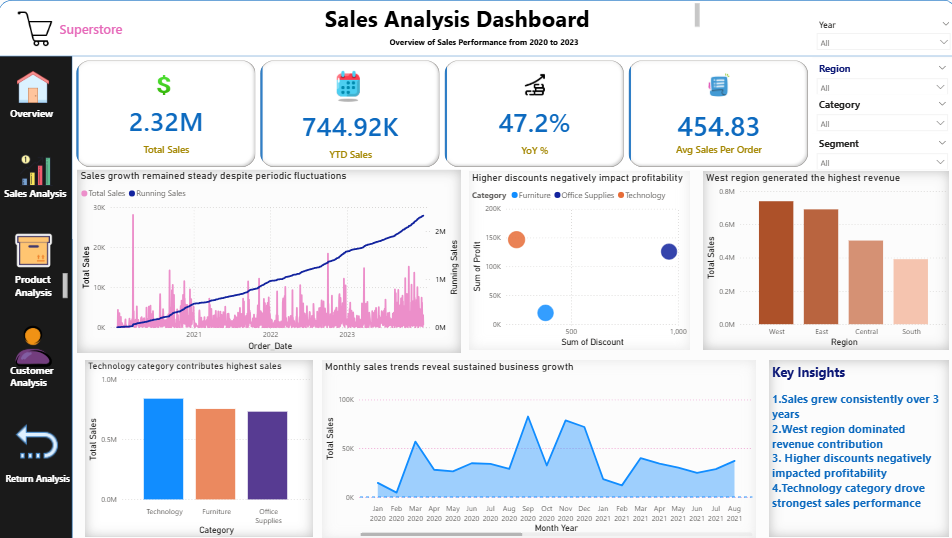

The page's visual inventory and layout, read from the dashboard file:
{"tool":"powerbi","page":{"name":"Sales Analysis","canvas":[1600,900],"ordinal":1},"visuals":[{"type":"shape","box":[0,0,124,900],"z":0},{"type":"shape","box":[0,0,1600,94],"z":1000},{"type":"lineChart","title":"Sales growth remained steady despite periodic fluctuations","fields":{"Y":["Orders.Total Sales"],"Category":["Orders.Order_Date"],"Y2":["Orders.Running Sales"]},"box":[132,282,640,306],"z":2000},{"type":"columnChart","title":"West region generated the highest revenue","fields":{"Category":["Orders.Region"],"Y":["Orders.Total Sales"]},"box":[1174,286,412,298],"z":3000},{"type":"clusteredColumnChart","title":"Technology category contributes highest sales","fields":{"Y":["Orders.Total Sales"],"Category":["Orders.Category"]},"box":[144,600,380,296],"z":4000},{"type":"scatterChart","title":"Higher discounts negatively impact profitability","fields":{"X":["Sum(Orders.Discount)"],"Y":["Sum(Orders.Profit)"],"Size":["Sum(Orders.Sales)"],"Series":["Orders.Category"]},"box":[786,286,368,298],"z":5000},{"type":"areaChart","title":"Monthly sales trends reveal sustained business growth","fields":{"Category":["Orders.Month Year"],"Y":["Orders.Total Sales"]},"box":[540,600,724,300],"z":6000},{"type":"slicer","fields":{"Values":["Orders.Region"]},"box":[1356,98,238,60],"z":7000},{"type":"slicer","fields":{"Values":["Orders.Category"]},"box":[1356,158,238,64],"z":8000},{"type":"slicer","fields":{"Values":["Orders.Segment"]},"box":[1356,222,238,60],"z":9000},{"type":"cardVisual","fields":{"Data":["Orders.Daily Sales","Orders.YTD Sales","Orders.YoY Growth %","Orders.Avg Sales Per Order"]},"box":[124,94,1232,188],"z":10000},{"type":"textbox","box":[540,0,634,54],"z":11000},{"type":"textbox","box":[648,54,412,78],"z":12000},{"type":"image","box":[28,8,70,78],"z":13000},{"type":"textbox","box":[98,28,220,110],"z":14000},{"type":"image","box":[26,98,66,94],"z":15000},{"type":"textbox","box":[16,172,232,322],"z":16000},{"type":"image","box":[22,228,82,116],"z":17000},{"type":"image","box":[20,368,78,100],"z":18000},{"type":"image","box":[8,518,96,120],"z":19000},{"type":"image","box":[22,690,84,92],"z":20000},{"type":"textbox","box":[4,306,278,76],"z":21000},{"type":"textbox","box":[22,450,98,52],"z":22000},{"type":"textbox","box":[16,600,98,76],"z":23000},{"type":"textbox","box":[8,782,162,68],"z":24000},{"type":"textbox","box":[1284,600,302,296],"z":25000},{"type":"slicer","fields":{"Values":["Orders.Year"]},"box":[1356,28,244,56],"z":26000}]}

Visuals, with their boxes on the page's 1600x900 design canvas (x1, y1, x2, y2). These are canvas units, not pixel positions in the 952x538 screenshot, which may show the page scaled, cropped or inside an application window:
shape: detection(0, 0, 124, 900)
shape: detection(0, 0, 1600, 94)
"Sales growth remained steady despite periodic fluctuations" lineChart: detection(132, 282, 772, 588)
"West region generated the highest revenue" columnChart: detection(1174, 286, 1586, 584)
"Technology category contributes highest sales" clusteredColumnChart: detection(144, 600, 524, 896)
"Higher discounts negatively impact profitability" scatterChart: detection(786, 286, 1154, 584)
"Monthly sales trends reveal sustained business growth" areaChart: detection(540, 600, 1264, 900)
slicer - Orders.Region: detection(1356, 98, 1594, 158)
slicer - Orders.Category: detection(1356, 158, 1594, 222)
slicer - Orders.Segment: detection(1356, 222, 1594, 282)
cardVisual - Orders.Daily Sales x Orders.YTD Sales: detection(124, 94, 1356, 282)
textbox: detection(540, 0, 1174, 54)
textbox: detection(648, 54, 1060, 132)
image: detection(28, 8, 98, 86)
textbox: detection(98, 28, 318, 138)
image: detection(26, 98, 92, 192)
textbox: detection(16, 172, 248, 494)
image: detection(22, 228, 104, 344)
image: detection(20, 368, 98, 468)
image: detection(8, 518, 104, 638)
image: detection(22, 690, 106, 782)
textbox: detection(4, 306, 282, 382)
textbox: detection(22, 450, 120, 502)
textbox: detection(16, 600, 114, 676)
textbox: detection(8, 782, 170, 850)
textbox: detection(1284, 600, 1586, 896)
slicer - Orders.Year: detection(1356, 28, 1600, 84)
